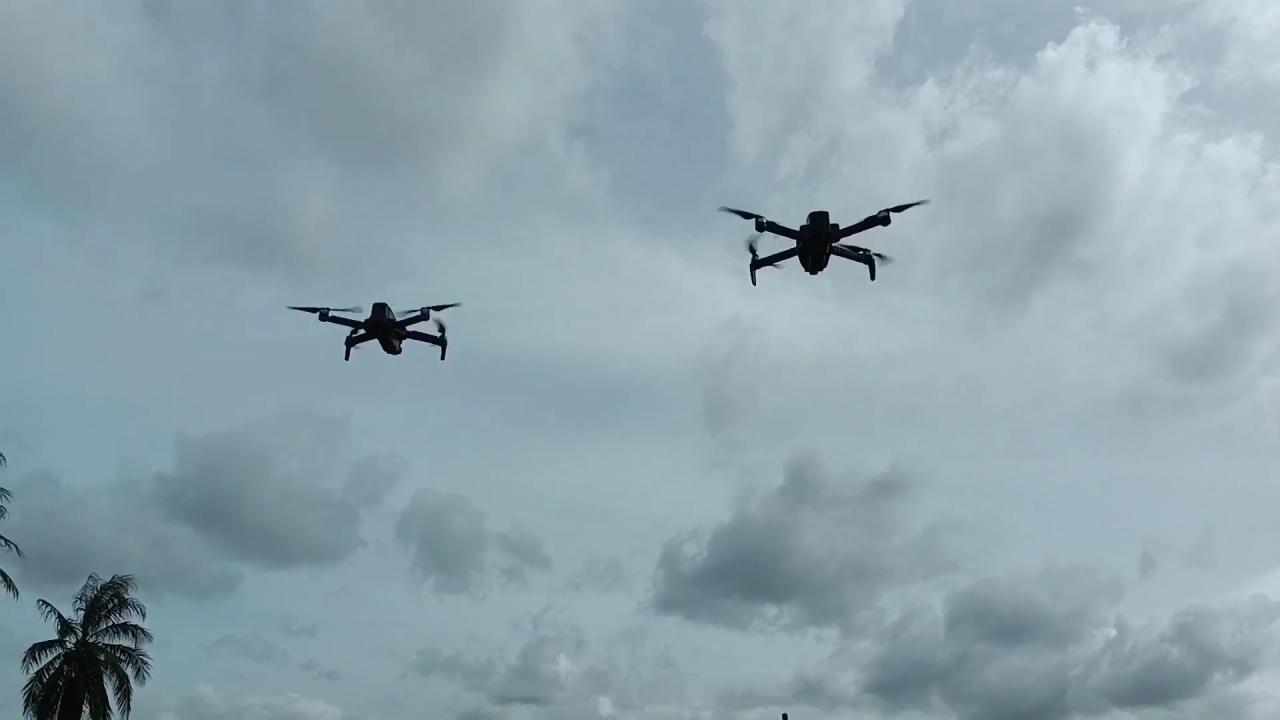Drone: (702, 182, 942, 298), (274, 279, 489, 378)
